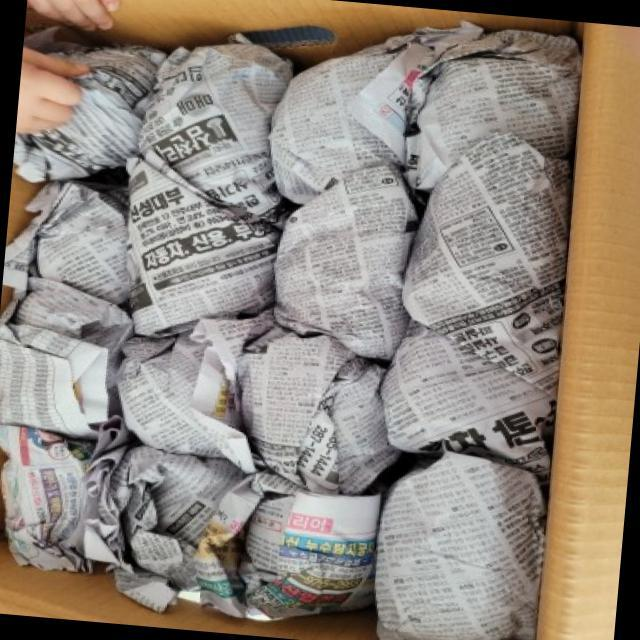reuseable_paper: (132, 40, 404, 356)
